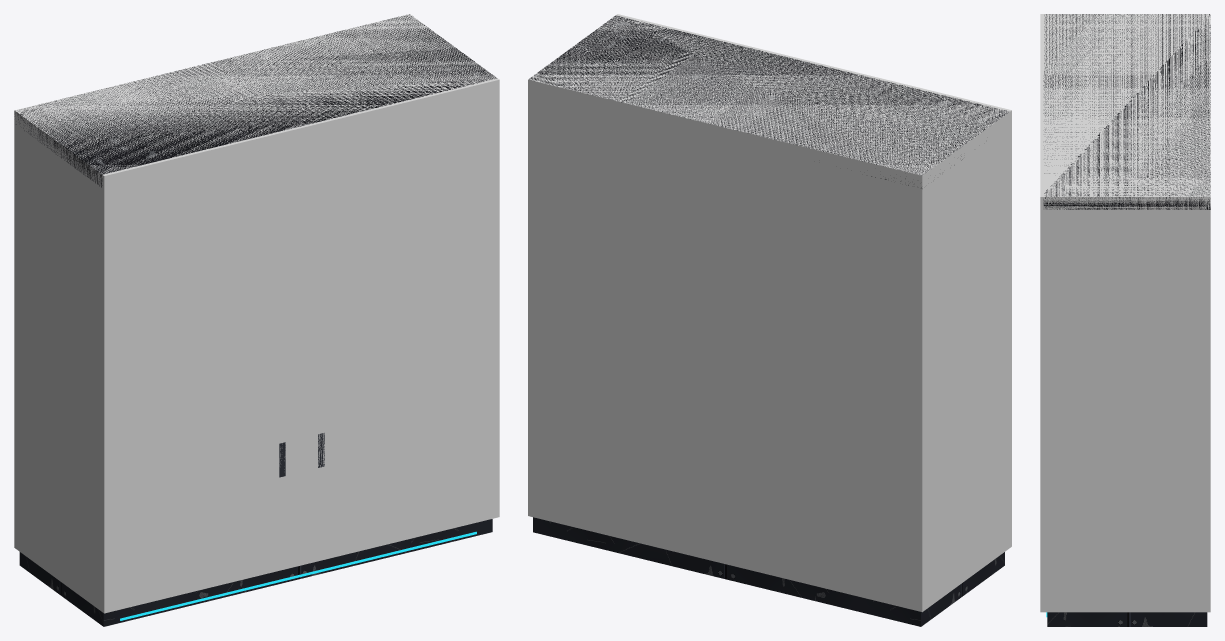
File: Pet_Aquarium.001.gltf
3 views of the same model, side by side, from view 1: azimuth 30°, elevation 25°; view 2: azimuth 150°, elevation 25°; view 3: azimuth 270°, elevation 25° (orthographic). The views are drawn at different scales.
Visible parts, largest first — view 1: Pet_Aquarium.001_COL, Pet_Aquarium.001; view 2: Pet_Aquarium.001_COL, Pet_Aquarium.001; view 3: Pet_Aquarium.001_COL, Pet_Aquarium.001.
Boxes of the visible parts, x1,y1,x2,y2 form: Pet_Aquarium.001_COL: (14, 14, 499, 613); Pet_Aquarium.001: (14, 14, 496, 626); Pet_Aquarium.001_COL: (528, 14, 1011, 612); Pet_Aquarium.001: (529, 15, 1008, 626); Pet_Aquarium.001_COL: (1040, 14, 1210, 612); Pet_Aquarium.001: (1043, 14, 1210, 626).
Size of the model in its own units: 1.22 by 1.34 by 0.48.
14 materials, 2 textured.
